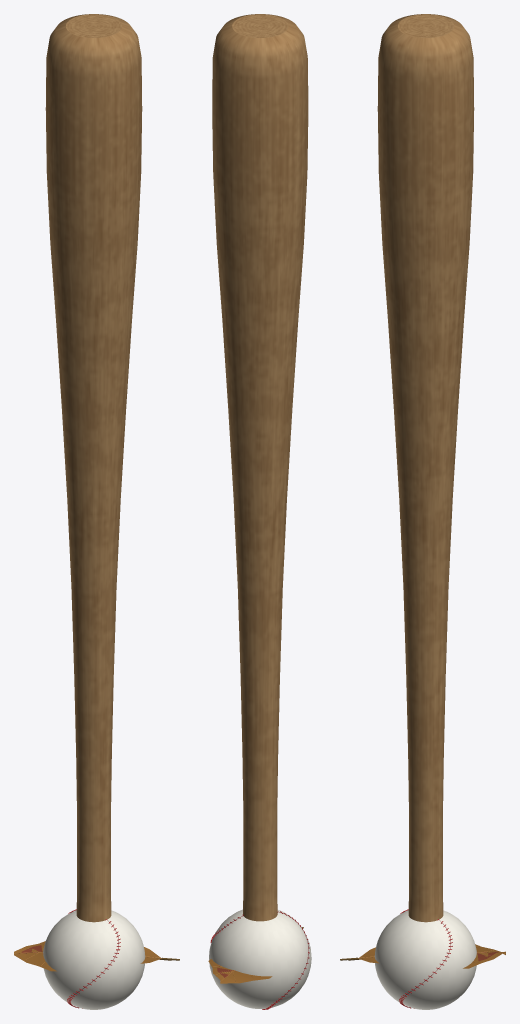
The model's file is season-extras.glb.
3 renders of one model, left to right at view 1: azimuth 90°, elevation 25°; view 2: azimuth 150°, elevation 25°; view 3: azimuth 270°, elevation 25°, orthographic.
Parts seen in each view (by area): view 1: Prop_Bat, Prop_Baseball, Season_Leaf_Ochre; view 2: Prop_Bat, Prop_Baseball, Season_Leaf_Ochre; view 3: Prop_Bat, Prop_Baseball, Season_Leaf_Ochre.
Part boxes in pixels (x1,y1,x2,y2): Prop_Bat: (45,14,142,922); Prop_Baseball: (43,909,145,1009); Season_Leaf_Ochre: (14,941,179,971); Prop_Bat: (212,14,308,921); Prop_Baseball: (209,909,311,1009); Season_Leaf_Ochre: (208,927,303,983); Prop_Bat: (377,14,474,922); Prop_Baseball: (374,909,476,1009); Season_Leaf_Ochre: (340,944,505,968).
Bounding box in the file's own units: 0.0742 × 0.7671 × 0.1177.
5 materials, 1 textured.
